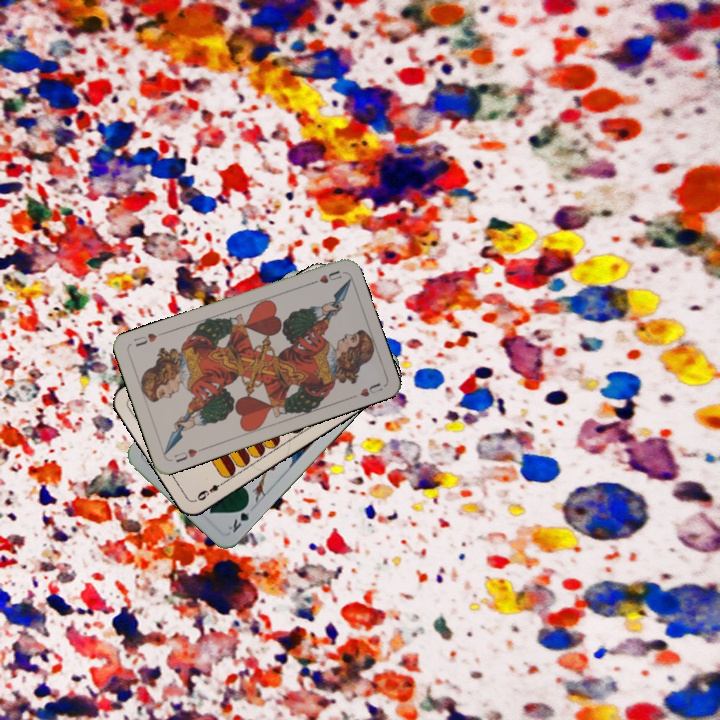E9: (193, 477, 228, 503)
GK: (224, 499, 253, 536)
HU: (306, 266, 344, 287), (170, 444, 207, 465)
